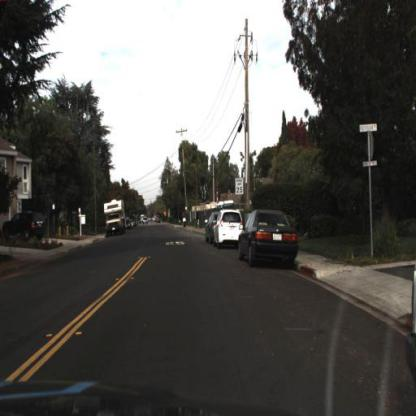car: (238, 204, 304, 264), (2, 209, 46, 244), (213, 206, 242, 253), (212, 209, 246, 247)
pedestrian: (183, 213, 188, 229)
truck: (102, 198, 130, 240)
